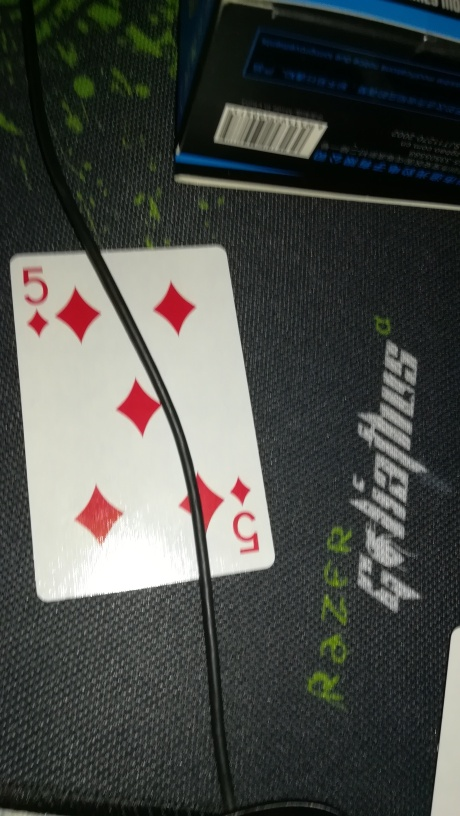fk 5: (5, 243, 291, 605)
